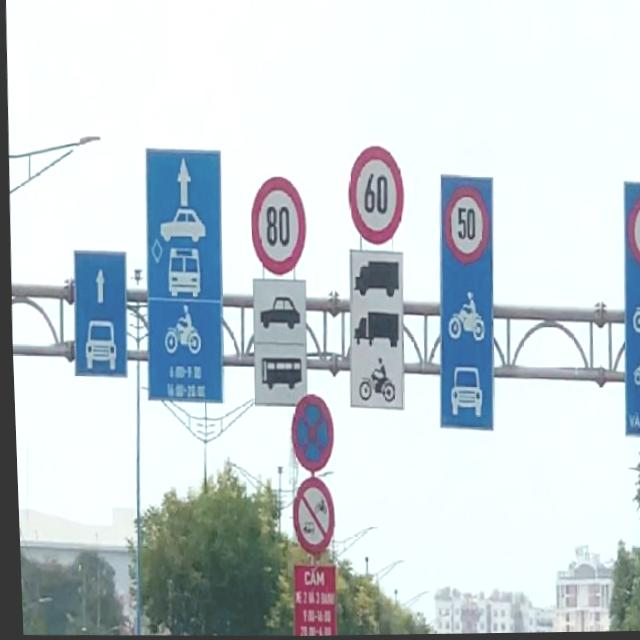Cam dung xe va do xe: (286, 394, 331, 474)
Toc do toi da cho phep: (342, 145, 405, 247), (245, 175, 308, 277), (440, 184, 489, 268), (623, 191, 640, 273)
